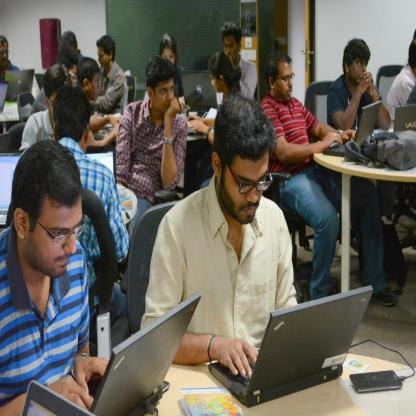board: (206, 282, 380, 404), (85, 291, 200, 416), (323, 100, 383, 158), (21, 380, 96, 416), (0, 148, 28, 226), (180, 74, 219, 112), (87, 146, 116, 184), (6, 68, 34, 101), (393, 104, 416, 131), (0, 81, 8, 114)
